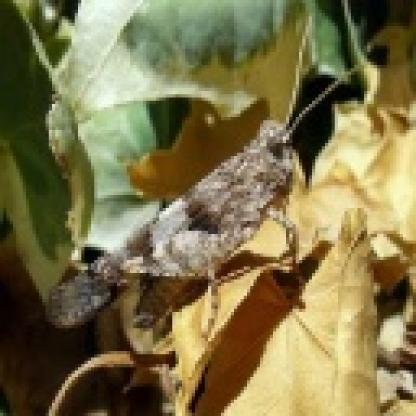grasshopper: (43, 89, 318, 338)
